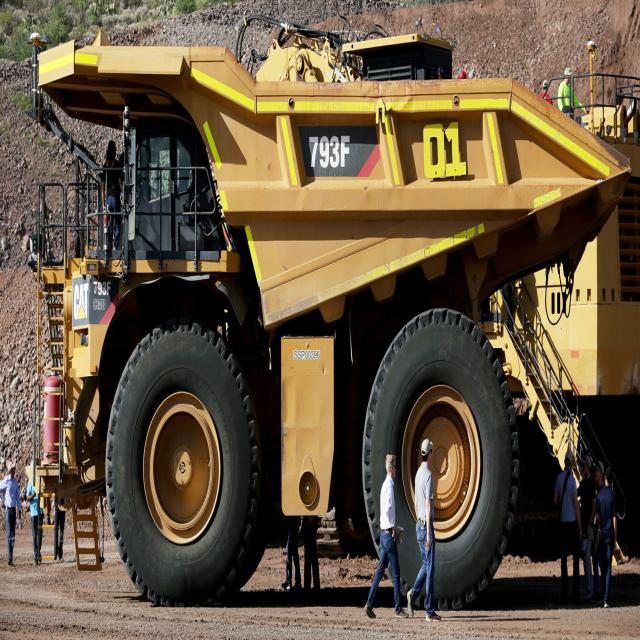dump_truck: (34, 21, 639, 607)
